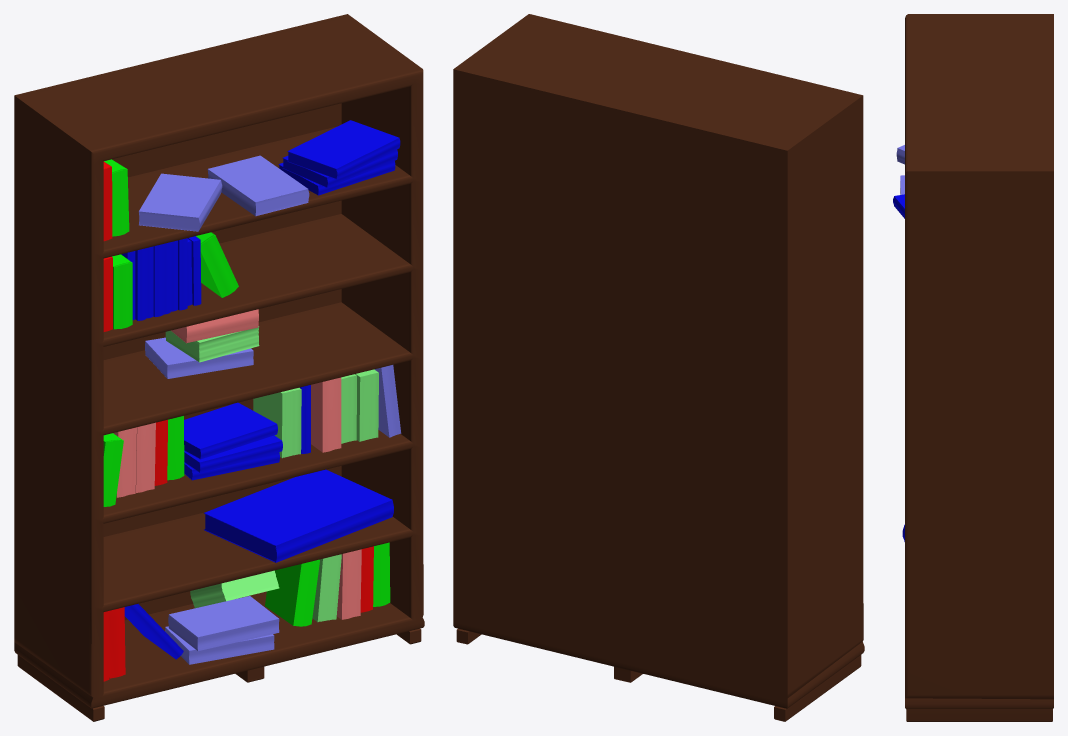
3 views of the same model, side by side, from view 1: azimuth 30°, elevation 25°; view 2: azimuth 150°, elevation 25°; view 3: azimuth 270°, elevation 25° (orthographic). The views are drawn at different scales.
Visible parts, largest first — view 1: BookCase_WithBooks (×7); view 2: BookCase_WithBooks; view 3: BookCase_WithBooks.
Boxes of the visible parts, x1,y1,x2,y2 form: BookCase_WithBooks (×7): (14, 14, 424, 721); BookCase_WithBooks: (453, 14, 864, 721); BookCase_WithBooks: (905, 14, 1053, 721).
Size of the model in its own units: 1.22 by 2 by 0.5277.
